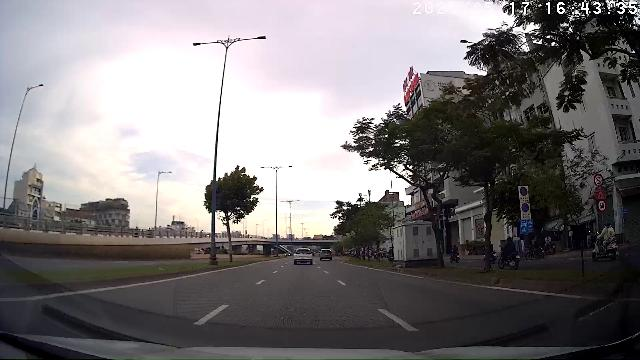127-toc-do-toi-da-50: (597, 200, 607, 212)
